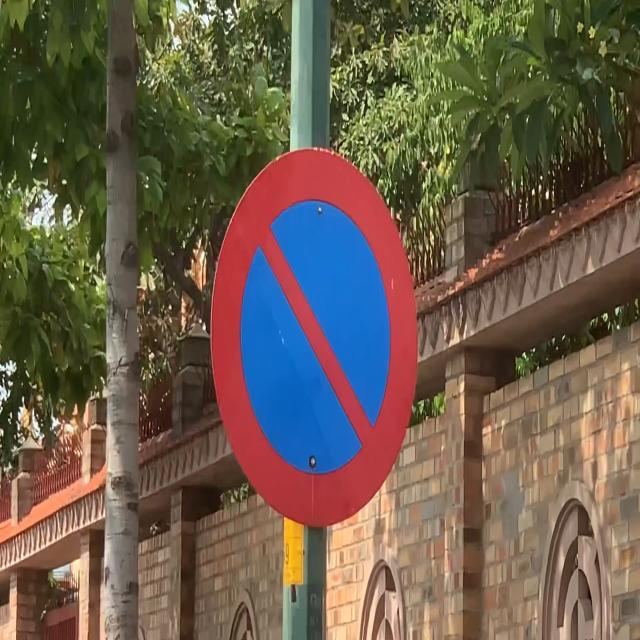Cam do: (204, 134, 419, 541)
